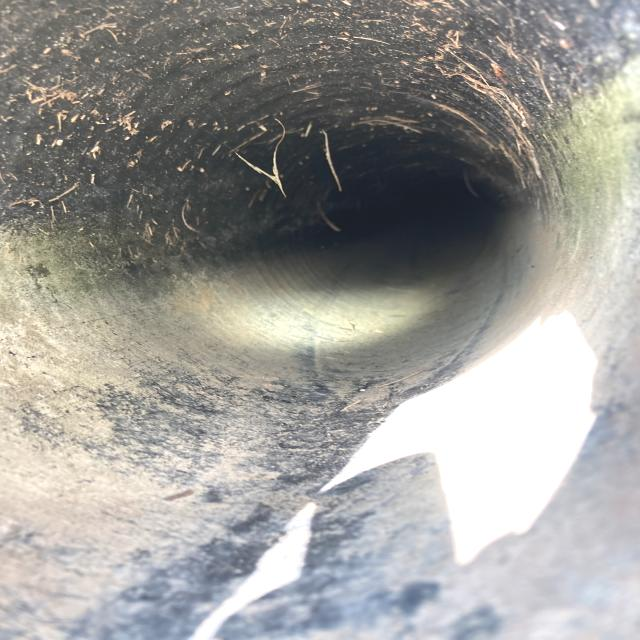root: (431, 50, 526, 164), (228, 125, 342, 209)
